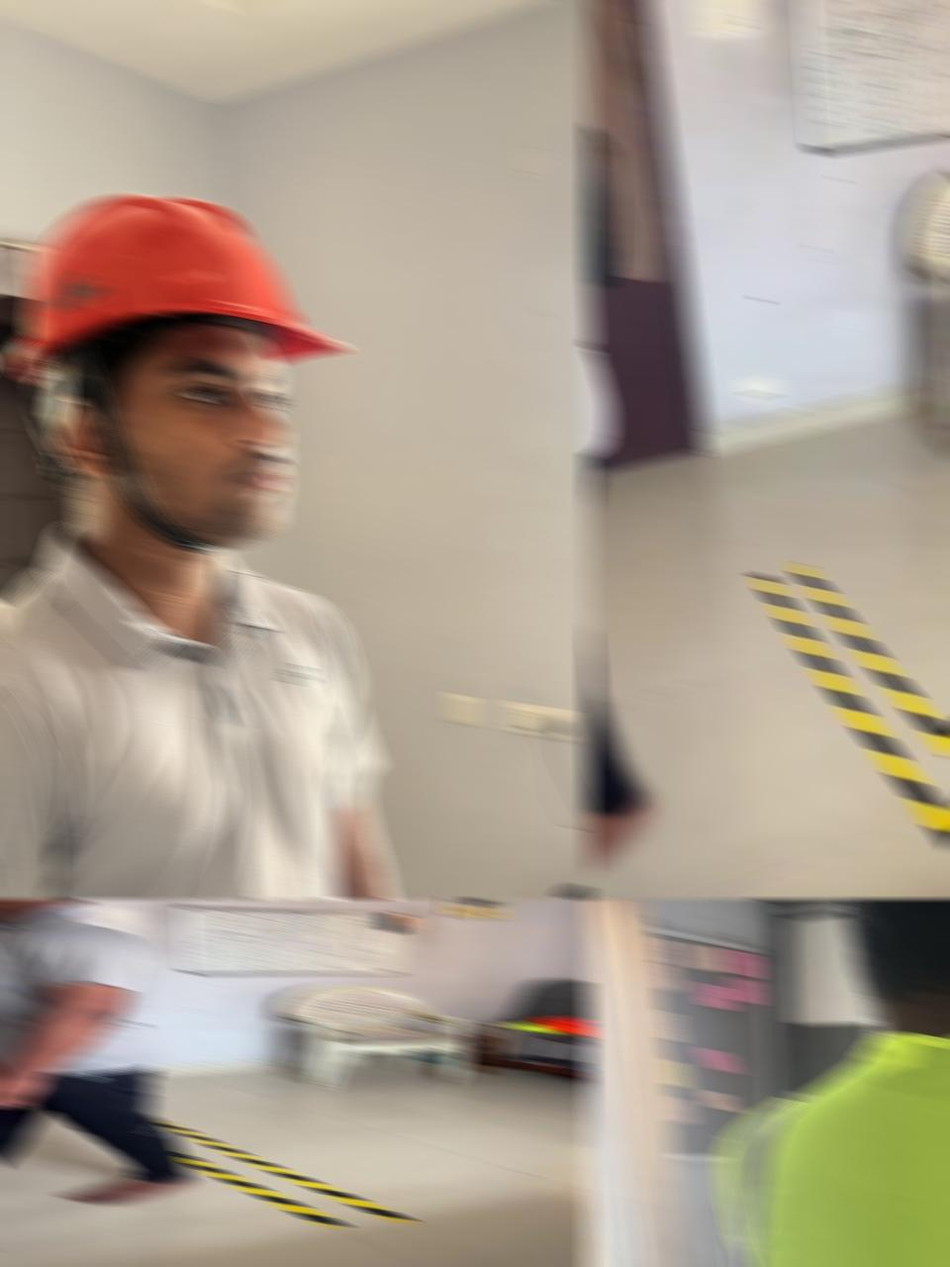BorderLine: (748, 561, 950, 877), (157, 1120, 419, 1228)
Helmet: (11, 189, 350, 384)
No_Helmet: (828, 898, 950, 1066)
No_Vest: (0, 523, 384, 899), (0, 901, 166, 1073)
Person: (0, 190, 447, 899), (714, 898, 950, 1267), (584, 0, 658, 891), (0, 898, 196, 1202)
Vest: (715, 1031, 950, 1267)
